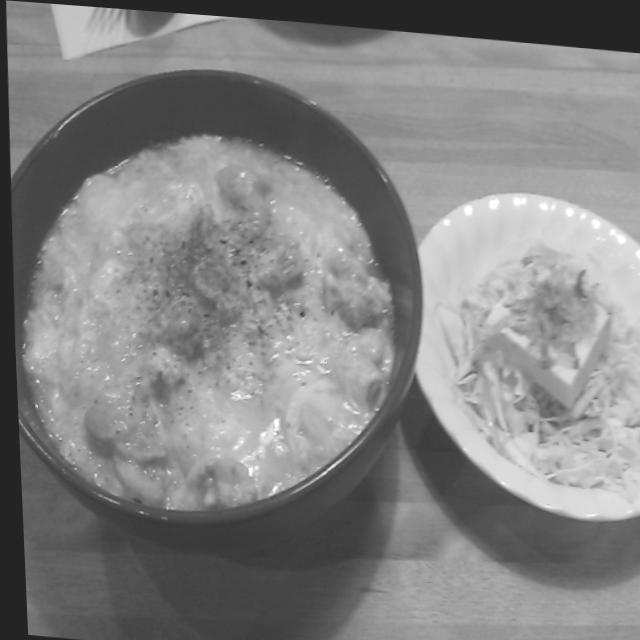米饭主食: (2, 52, 448, 552)
蔬菜料理: (392, 158, 640, 514)
